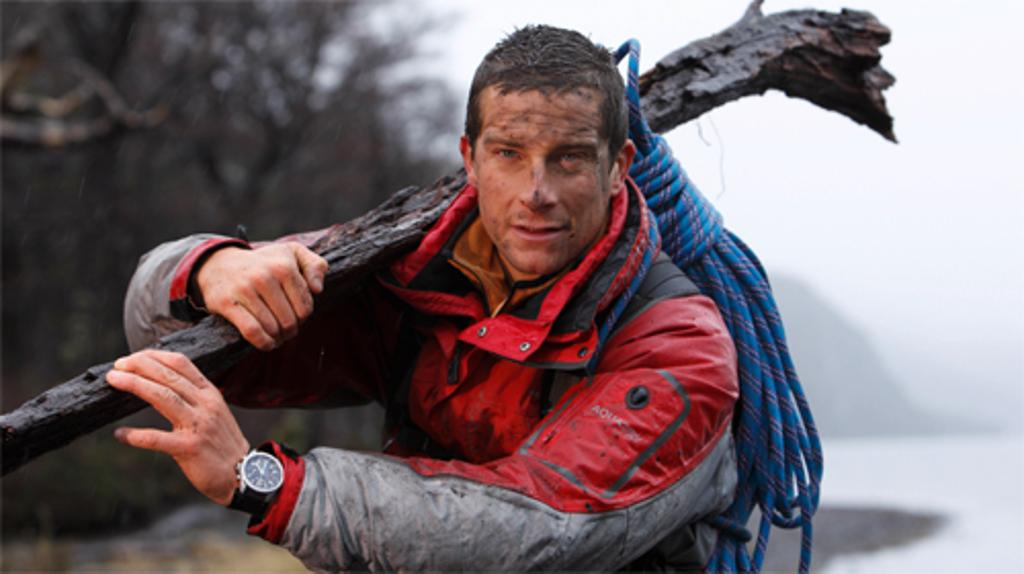face: (476, 84, 608, 268)
